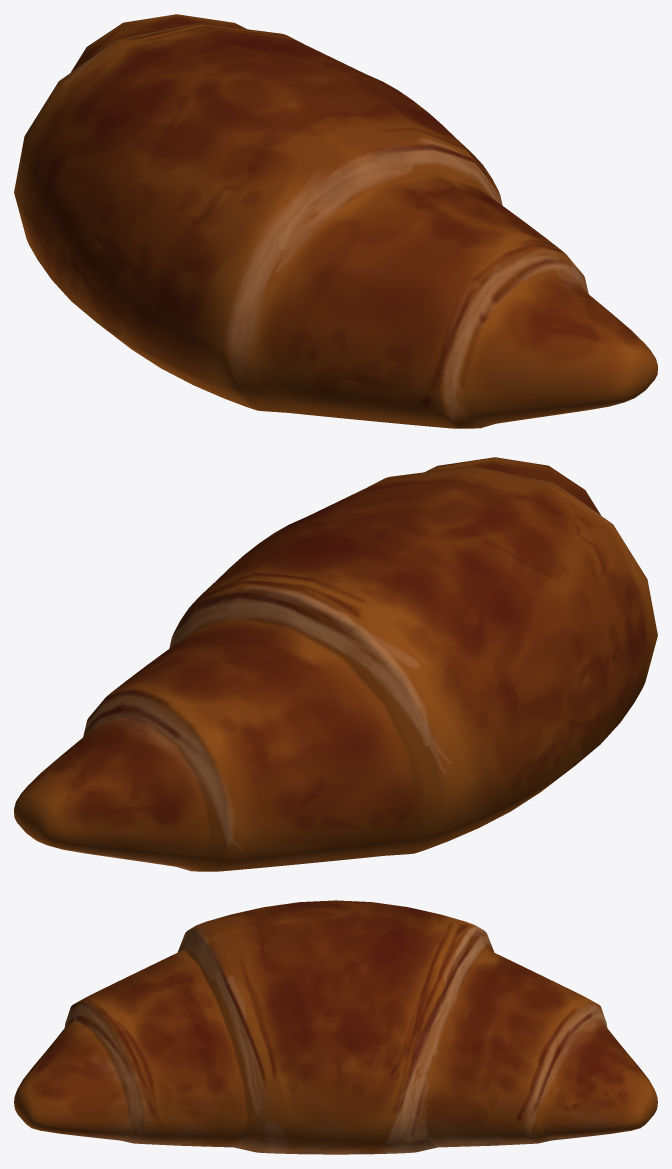
The model's file is croissant.gltf.
The picture shows the model from 3 angles, top to bottom: view 1: azimuth 30°, elevation 25°; view 2: azimuth 150°, elevation 25°; view 3: azimuth 270°, elevation 25°; orthographic projection. The views are drawn at different scales.
Visible parts, largest first — view 1: Croissant_low; view 2: Croissant_low; view 3: Croissant_low.
Boxes of the visible parts, x1,y1,x2,y2 form: Croissant_low: (14,14,657,428); Croissant_low: (14,457,657,871); Croissant_low: (14,900,657,1154).
Size of the model in its own units: 1 by 0.6716 by 2.
Materials: 1 (1 with a texture image).
